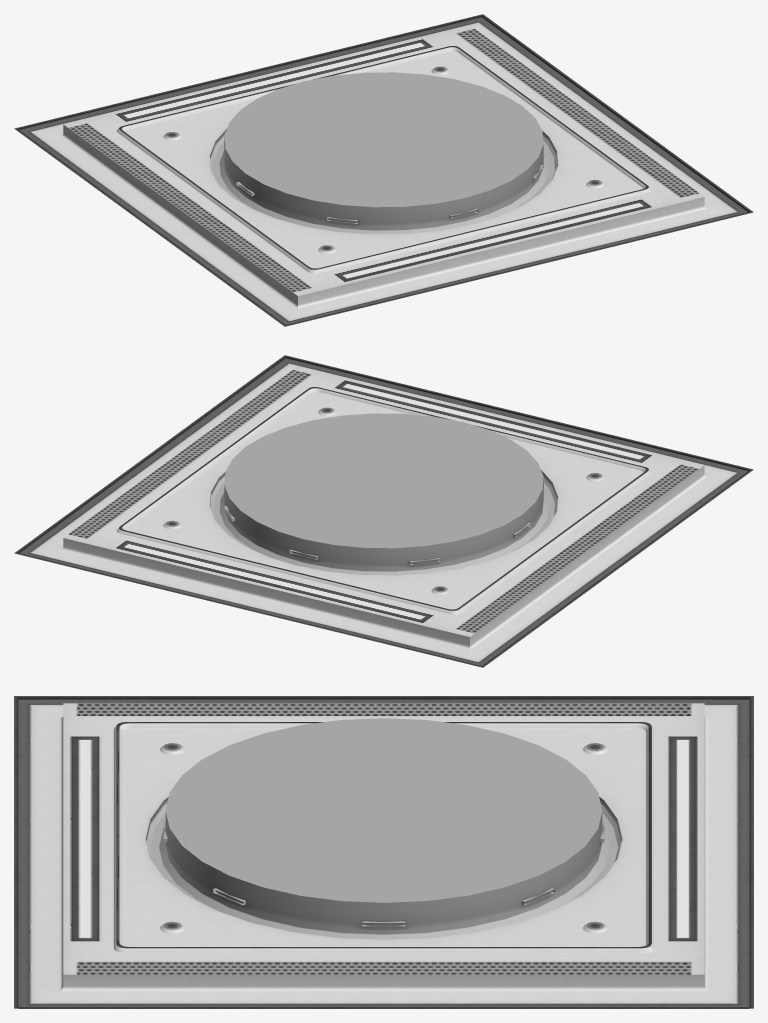
Rendered from SM_MCeiling03-350x350-2.FBX.
3 renders of one model, top to bottom at view 1: azimuth 30°, elevation 25°; view 2: azimuth 150°, elevation 25°; view 3: azimuth 270°, elevation 25°, orthographic. The views are drawn at different scales.
Parts seen in each view (by area): view 1: SM_MCeiling03-350x350-2; view 2: SM_MCeiling03-350x350-2; view 3: SM_MCeiling03-350x350-2.
Part boxes in pixels (x1,y1,x2,y2): SM_MCeiling03-350x350-2: (14, 14, 753, 326); SM_MCeiling03-350x350-2: (14, 355, 753, 667); SM_MCeiling03-350x350-2: (14, 696, 753, 1008).
Size of what is drawn, in the model's own units: 350 by 350 by 22.86.
